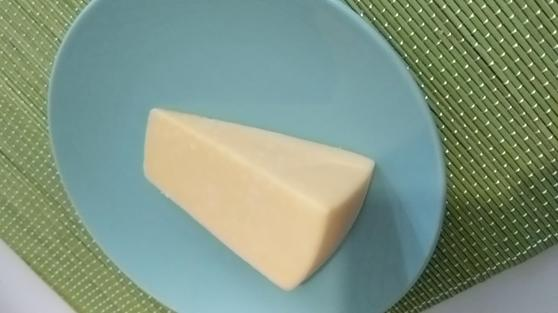cheese: (142, 100, 380, 294)
